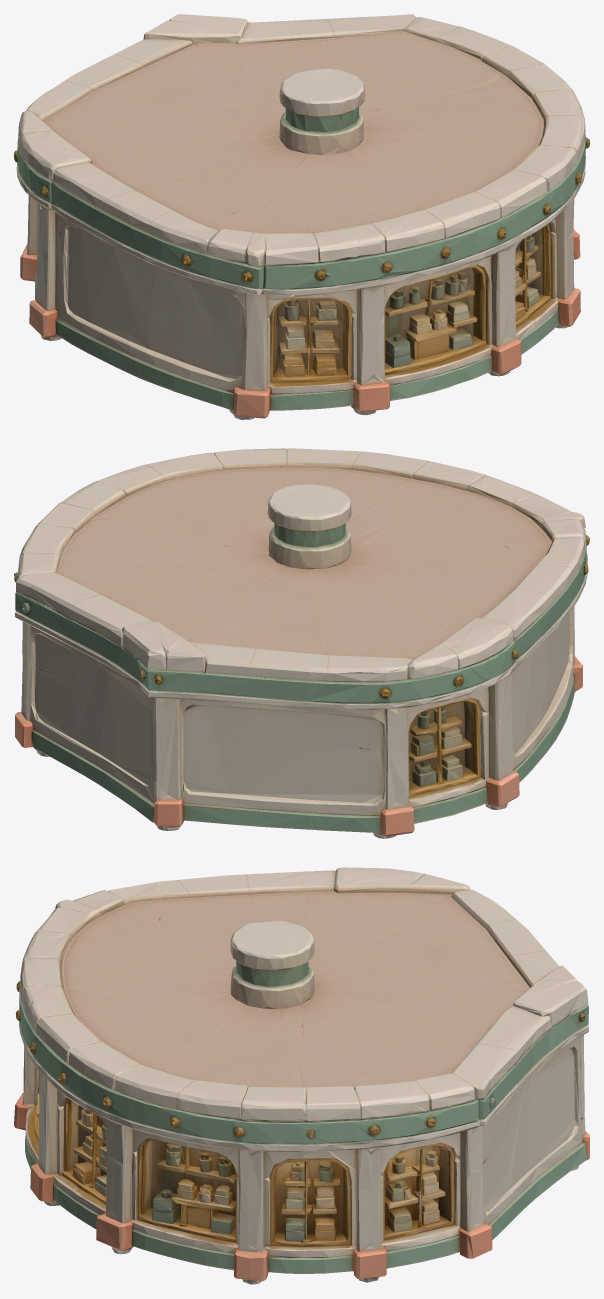
File: 06-curved-shop.glb
The picture shows the model from 3 angles, top to bottom: view 1: azimuth 30°, elevation 25°; view 2: azimuth 150°, elevation 25°; view 3: azimuth 270°, elevation 25°; orthographic projection. The views are drawn at different scales.
Size of the model in its own units: 0.999 by 0.44 by 0.9981.
1 material, 1 textured.
